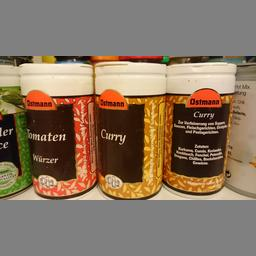spices: (18, 62, 94, 198), (92, 60, 166, 198), (162, 60, 236, 196)
